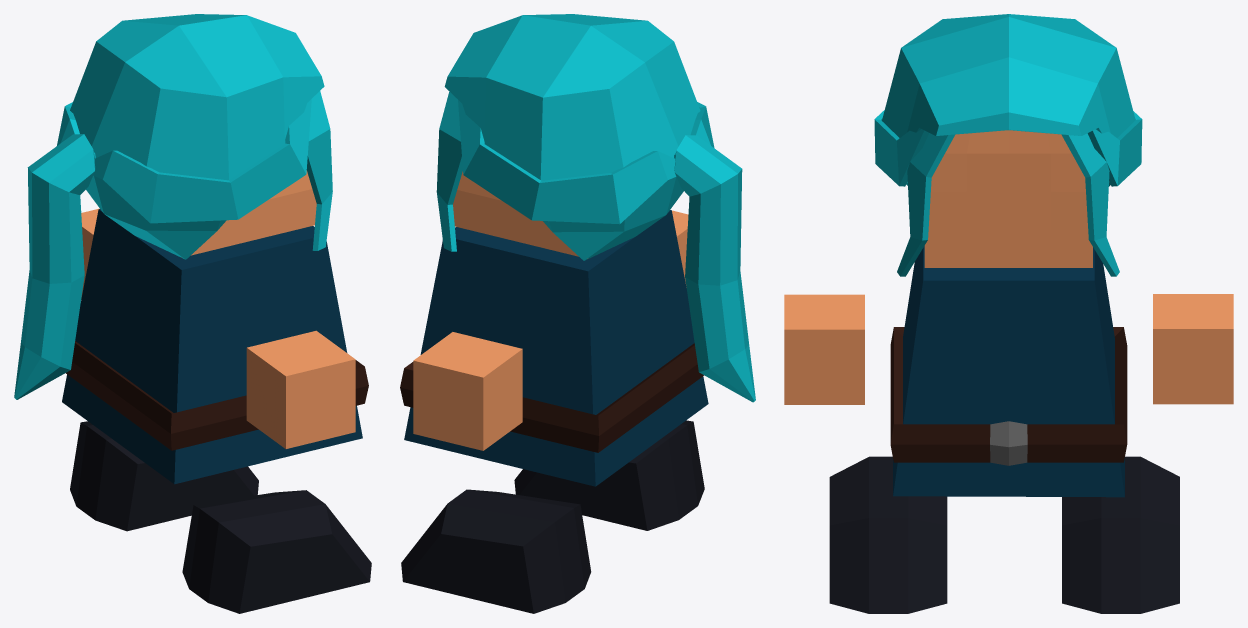
The model's file is Player_Rigged_New.obj.
3 views of the same model, side by side, from view 1: azimuth 30°, elevation 25°; view 2: azimuth 150°, elevation 25°; view 3: azimuth 270°, elevation 25° (orthographic). The views are drawn at different scales.
Parts seen in each view (by area): view 1: Head, Body, RightFoot, RightHand, LeftFoot, LeftHand; view 2: Head, Body, LeftFoot, LeftHand, RightFoot, RightHand; view 3: Head, Body, RightFoot, LeftFoot, LeftHand, RightHand.
Part boxes in pixels (<box>): Head: <box>14,14,332,399</box>; Body: <box>62,209,368,484</box>; RightFoot: <box>182,490,371,613</box>; RightHand: <box>246,330,355,448</box>; LeftFoot: <box>70,421,258,531</box>; LeftHand: <box>81,208,99,298</box>; Head: <box>436,14,755,402</box>; Body: <box>400,210,708,486</box>; LeftFoot: <box>401,489,591,613</box>; LeftHand: <box>413,332,522,450</box>; RightFoot: <box>514,420,704,530</box>; RightHand: <box>672,210,688,287</box>; Head: <box>874,14,1142,276</box>; Body: <box>890,246,1127,497</box>; RightFoot: <box>829,456,947,613</box>; LeftFoot: <box>1062,456,1179,613</box>; LeftHand: <box>1153,294,1233,404</box>; RightHand: <box>784,294,864,404</box>.
Bounding box in the file's own units: 4.19 × 6.88 × 5.24.
